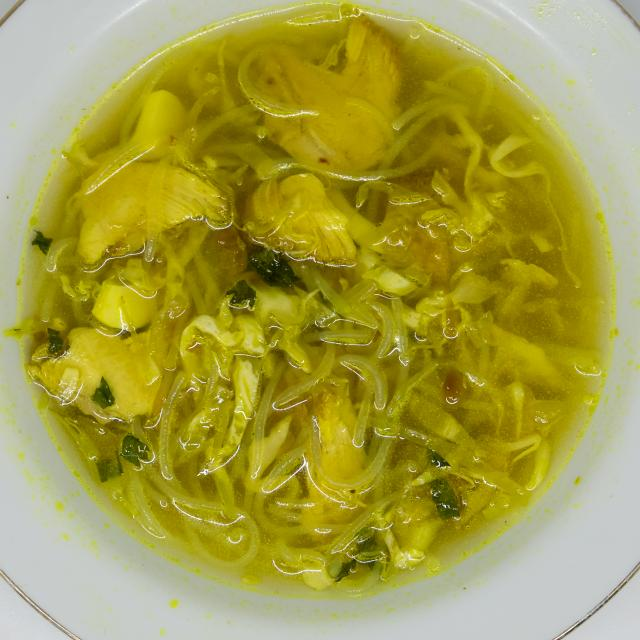Soto-Lamongan: (36, 4, 583, 578)
